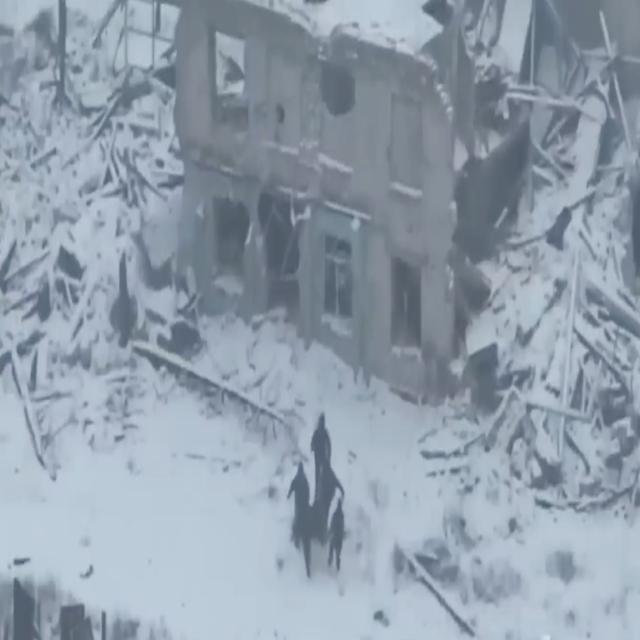infantry: (288, 461, 312, 574), (308, 409, 328, 502), (328, 495, 348, 572), (319, 466, 338, 540)
